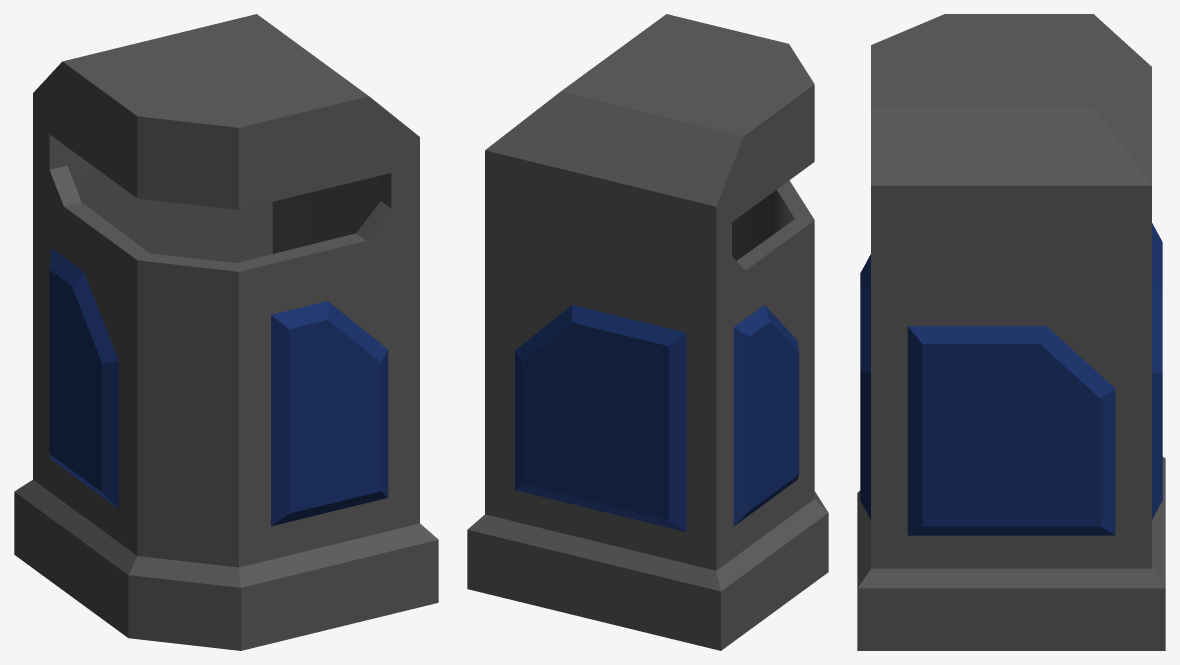
File: LPSciFi_Sci-FiBin.fbx
3 views of the same model, side by side, from view 1: azimuth 30°, elevation 25°; view 2: azimuth 150°, elevation 25°; view 3: azimuth 270°, elevation 25° (orthographic). The views are drawn at different scales.
Visible parts, largest first — view 1: Sci-FiBin; view 2: Sci-FiBin; view 3: Sci-FiBin.
Boxes of the visible parts, <box> form: Sci-FiBin: <box>14,14,438,650</box>; Sci-FiBin: <box>467,14,828,650</box>; Sci-FiBin: <box>857,14,1165,650</box>.
Size of the model in its own units: 66.83 by 123 by 66.83.
